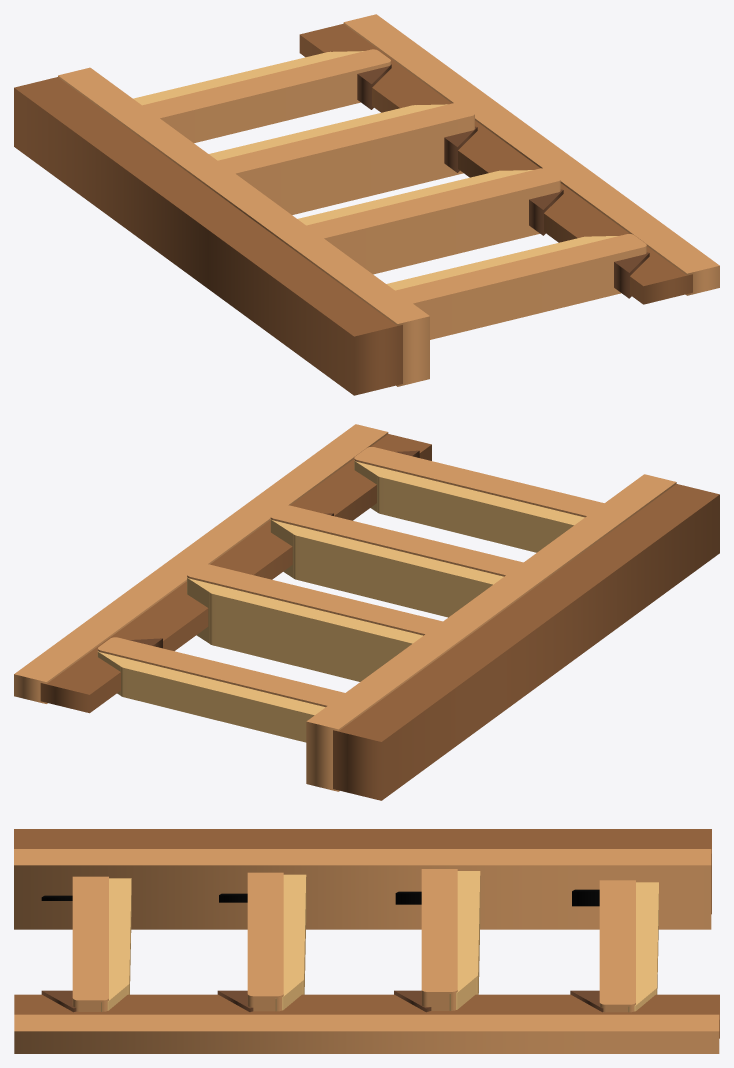
Rendered from emoji_u1fa9c.glb.
3 renders of one model, top to bottom at view 1: azimuth 30°, elevation 25°; view 2: azimuth 150°, elevation 25°; view 3: azimuth 270°, elevation 25°, orthographic. The views are drawn at different scales.
Visible parts, largest first — view 1: emoji_u1fa9c; view 2: emoji_u1fa9c; view 3: emoji_u1fa9c.
Part boxes in pixels (x1=…): emoji_u1fa9c: x1=14, y1=14, x2=719, y2=395; emoji_u1fa9c: x1=14, y1=424, x2=719, y2=800; emoji_u1fa9c: x1=14, y1=829, x2=719, y2=1053.
Size of the model in its own units: 0.0207 by 0.0034 by 0.0337.
